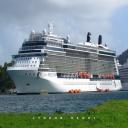cruises: (7, 18, 125, 96), (115, 58, 128, 91)
